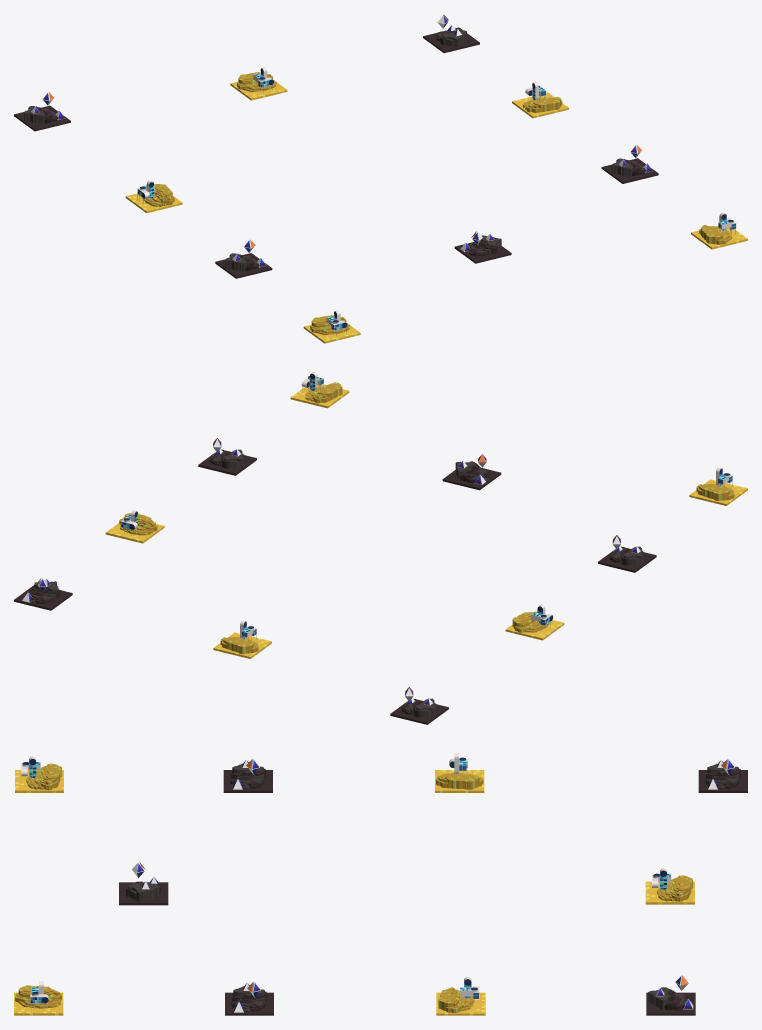
Rendered from D9_Wildcard_Part_5.fbx.
3 renders of one model, top to bottom at view 1: azimuth 30°, elevation 25°; view 2: azimuth 150°, elevation 25°; view 3: azimuth 270°, elevation 25°, orthographic. The views are drawn at different scales.
Visible parts, largest first — view 1: Cube.390, Cube.384, Cube.388, Cube.382, Cube.386, Cube.389, Cube.387, Cube.385, Cube.391, Cube.383; view 2: Cube.388, Cube.384, Cube.382, Cube.386, Cube.389, Cube.390, Cube.383, Cube.387, Cube.385, Cube.391; view 3: Cube.382, Cube.390, Cube.388, Cube.386, Cube.383, Cube.384, Cube.387, Cube.391, Cube.385, Cube.389.
Boxes of the visible parts, bbox=[...] form: Cube.390: bbox=[512, 82, 568, 118]; Cube.384: bbox=[125, 180, 182, 213]; Cube.388: bbox=[691, 212, 747, 249]; Cube.382: bbox=[230, 67, 287, 100]; Cube.386: bbox=[303, 310, 360, 343]; Cube.389: bbox=[454, 231, 511, 263]; Cube.387: bbox=[215, 239, 272, 278]; Cube.385: bbox=[14, 92, 70, 131]; Cube.391: bbox=[601, 145, 658, 183]; Cube.383: bbox=[423, 14, 479, 53]; Cube.388: bbox=[290, 372, 349, 408]; Cube.384: bbox=[505, 604, 564, 640]; Cube.382: bbox=[213, 620, 271, 658]; Cube.386: bbox=[689, 467, 747, 505]; Cube.389: bbox=[442, 454, 501, 490]; Cube.390: bbox=[105, 510, 164, 543]; Cube.383: bbox=[14, 578, 72, 610]; Cube.387: bbox=[598, 535, 656, 572]; Cube.385: bbox=[390, 687, 448, 724]; Cube.391: bbox=[198, 438, 256, 475]; Cube.382: bbox=[645, 868, 694, 904]; Cube.390: bbox=[436, 977, 485, 1015]; Cube.388: bbox=[14, 981, 63, 1015]; Cube.386: bbox=[15, 756, 63, 792]; Cube.383: bbox=[646, 975, 695, 1015]; Cube.384: bbox=[435, 753, 484, 792]; Cube.387: bbox=[223, 759, 272, 792]; Cube.391: bbox=[225, 982, 273, 1015]; Cube.385: bbox=[698, 759, 747, 792]; Cube.389: bbox=[119, 861, 168, 905].
Bounding box in the file's own units: 46876 × 2568 × 59698.
Materials: 8 (8 with a texture image).
